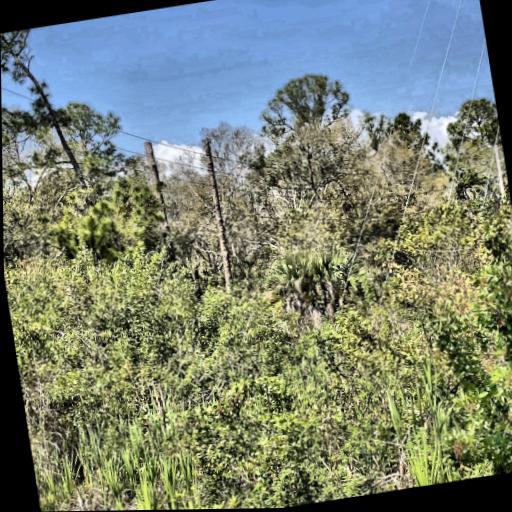pole: (1, 36, 27, 316)
vegetation_encroachment: (2, 126, 24, 307)
